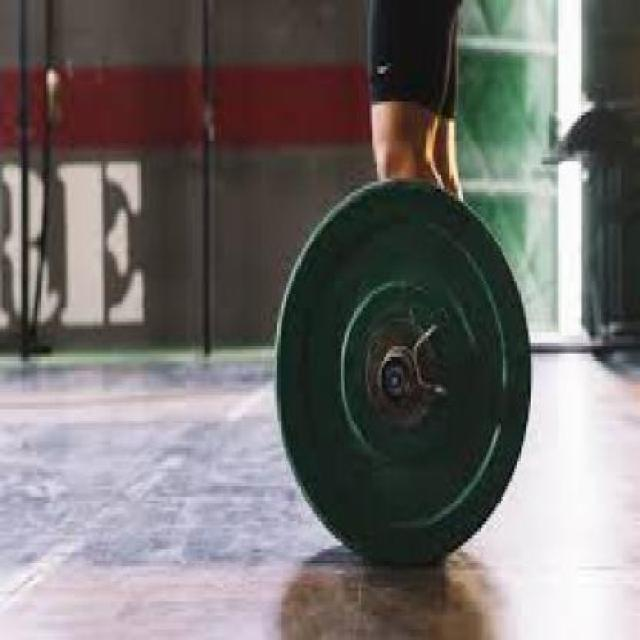barbell: (268, 176, 542, 572)
